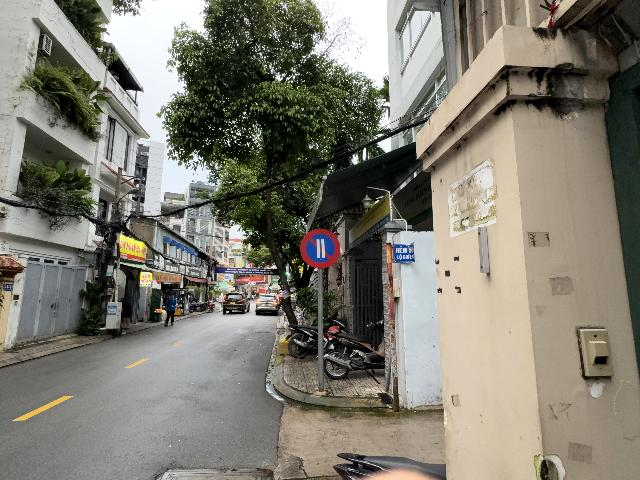cam-do-xe-ngay-chan: (300, 227, 341, 269)
